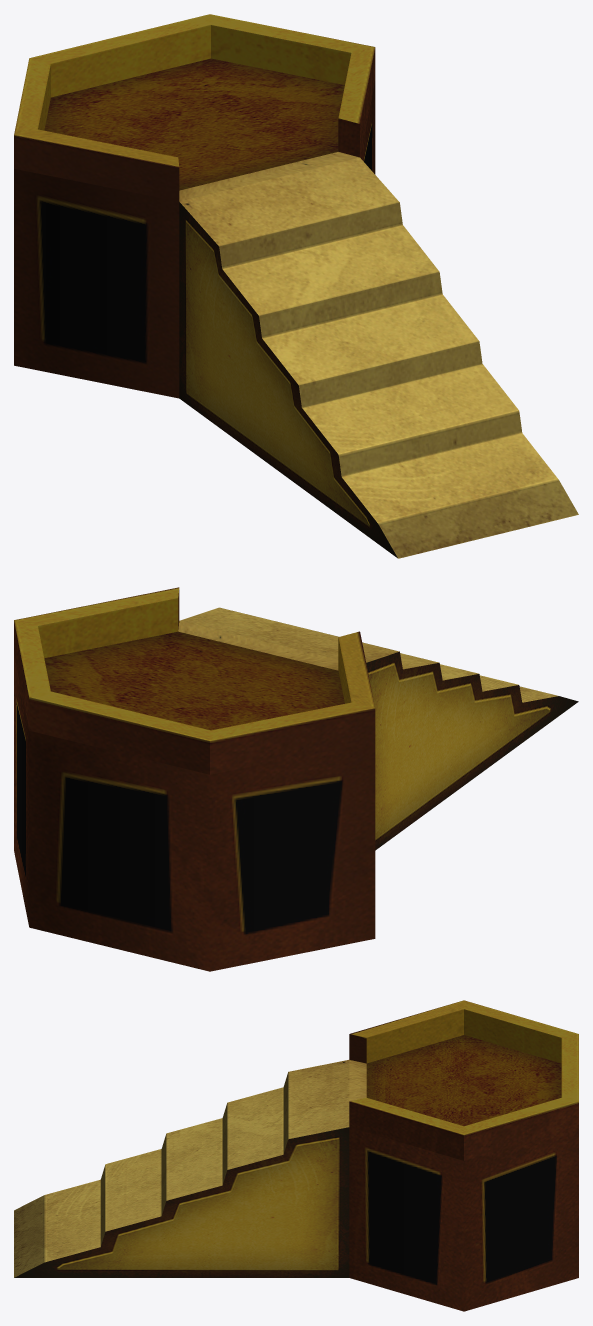
The model's file is axe_stand.FBX.
3 views of the same model, one above another, from view 1: azimuth 30°, elevation 25°; view 2: azimuth 150°, elevation 25°; view 3: azimuth 270°, elevation 25° (orthographic). The views are drawn at different scales.
Parts seen in each view (by area): view 1: Cylinder001; view 2: Cylinder001; view 3: Cylinder001.
Boxes of the visible parts, x1,y1,x2,y2 form: Cylinder001: (14, 14, 578, 558); Cylinder001: (14, 587, 578, 971); Cylinder001: (14, 1000, 578, 1311).
Size of the model in its own units: 1816 by 1107 by 3213.
